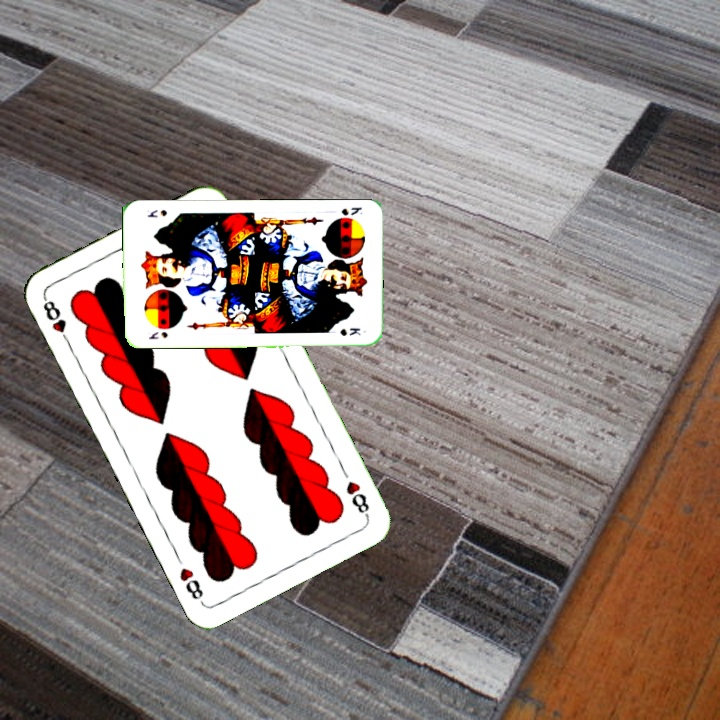H8: (38, 293, 73, 348), (342, 476, 372, 520)
SK: (338, 203, 365, 218), (144, 328, 170, 342)
